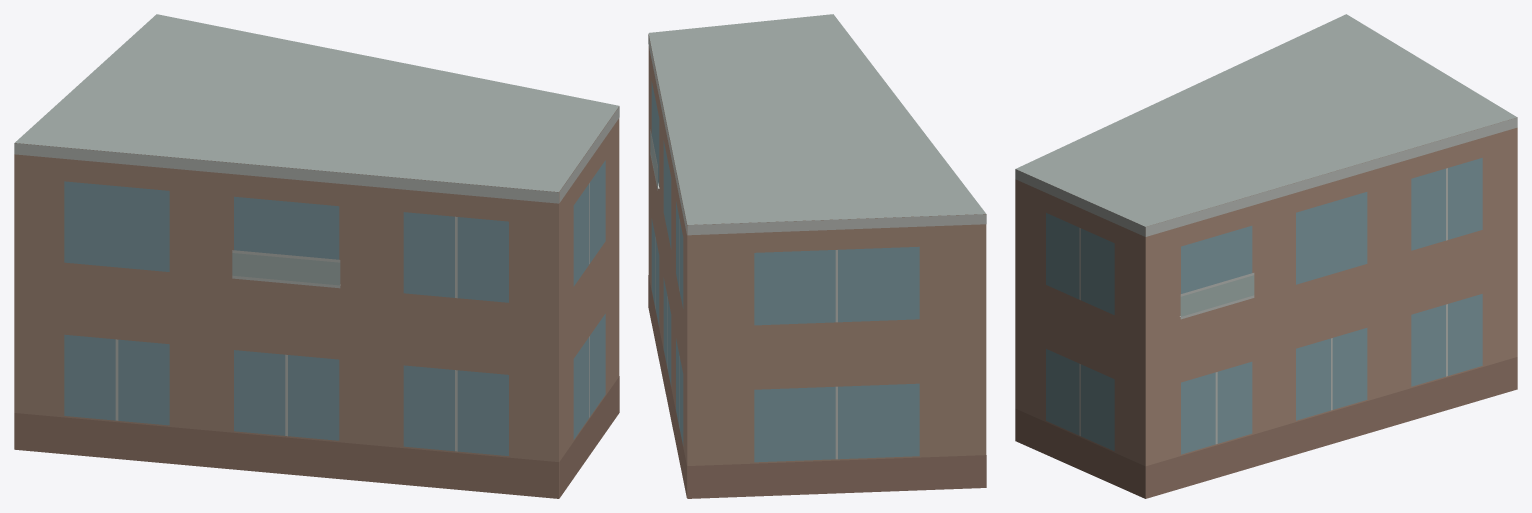
The model's file is survey-upis-32496543.glb.
3 renders of one model, left to right at view 1: azimuth 30°, elevation 25°; view 2: azimuth 150°, elevation 25°; view 3: azimuth 270°, elevation 25°, orthographic. The views are drawn at different scales.
Visible parts, largest first — view 1: survey-upis-32496543.tmp; view 2: survey-upis-32496543.tmp; view 3: survey-upis-32496543.tmp.
Part boxes in pixels (x1,y1,x2,y2): survey-upis-32496543.tmp: (14,14,619,498); survey-upis-32496543.tmp: (648,14,986,498); survey-upis-32496543.tmp: (1015,14,1517,498).
Size of the model in its own units: 10.92 by 6.5 by 10.88.
